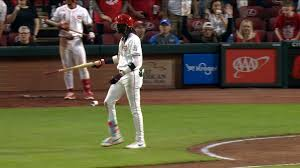baseball bat: (42, 58, 102, 78)
